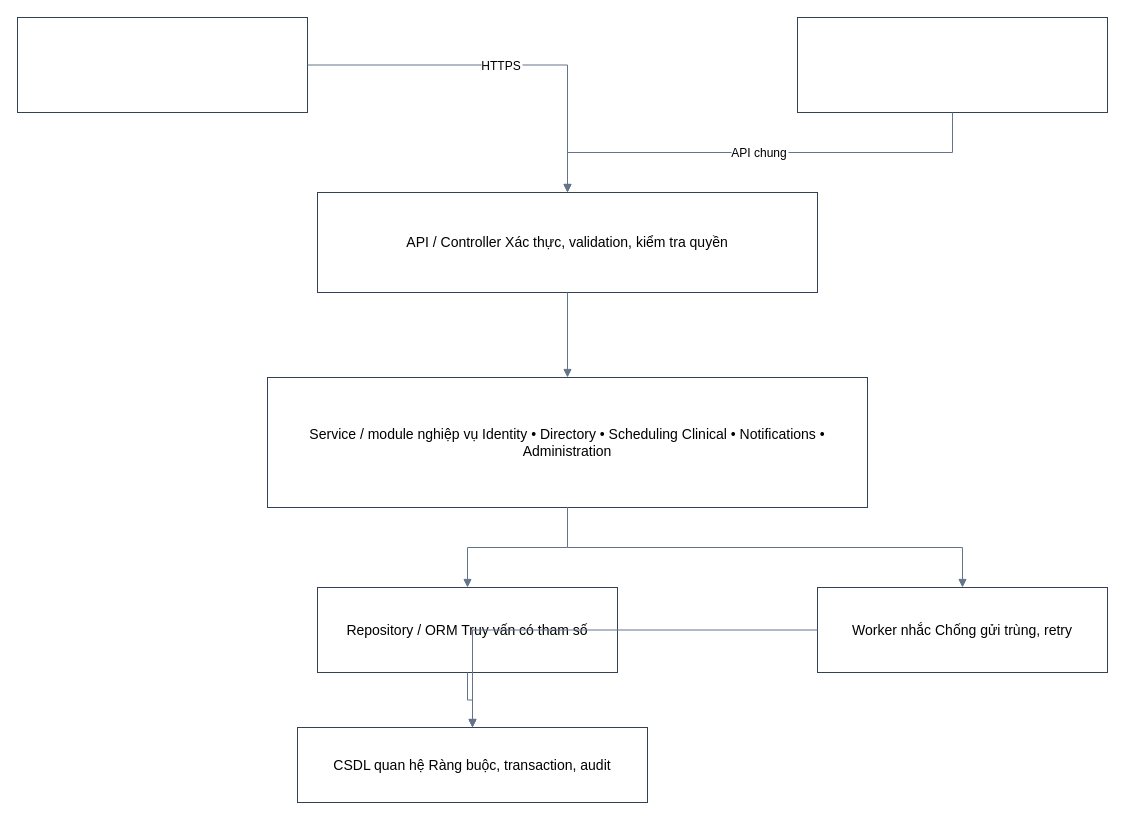
Image size: 1125x820. Some labels were removed from this diagram. Each missing label, with the centre of its shape:
Client Web Ưu tiên MVP: (x=162, y=64)
Mobile / Desktop Phạm vi chờ xác nhận: (x=952, y=64)
